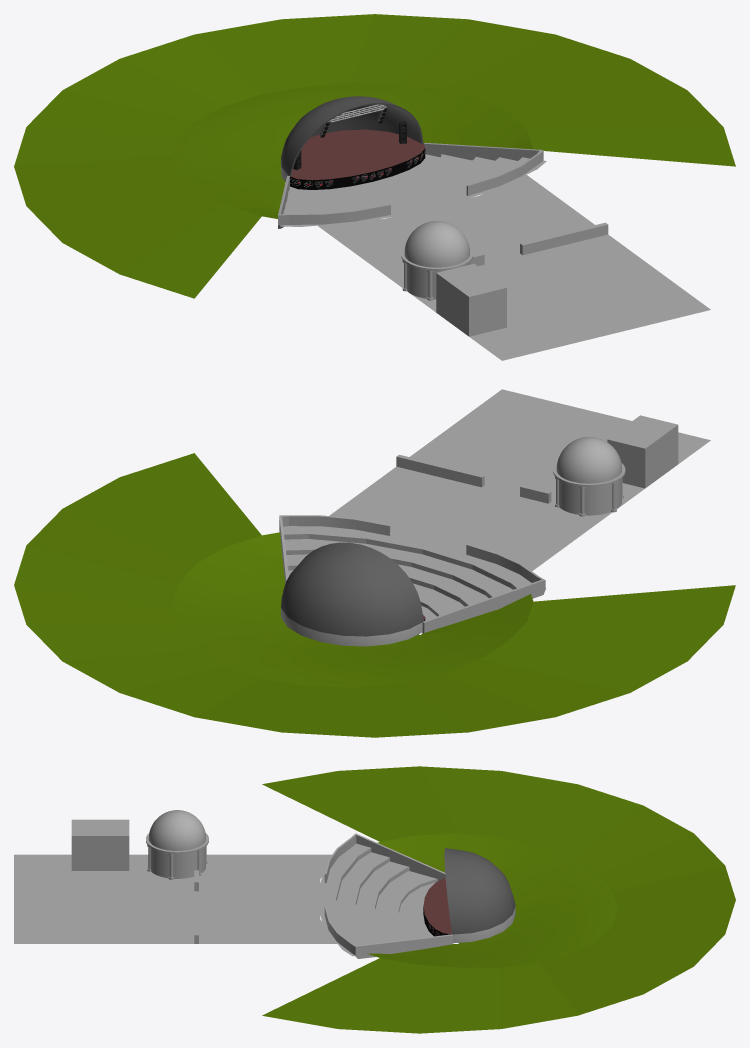
The model's file is MainWorld.fbx.
The picture shows the model from 3 angles, top to bottom: view 1: azimuth 30°, elevation 25°; view 2: azimuth 150°, elevation 25°; view 3: azimuth 270°, elevation 25°; orthographic projection. The views are drawn at different scales.
Visible parts, largest first — view 1: pDisc1, pPlane1, pCylinder29, pCylinder30, pCube1, pCube7, pCylinder27, pCube2; view 2: pDisc1, pPlane1, pCylinder29, pCylinder30, pCylinder27, pCube7, pCube1, pCube2; view 3: pDisc1, pPlane1, pCylinder30, pCylinder29, pCylinder27, pCube1, pCube7.
Part boxes in pixels (x1,y1,x2,y2): pDisc1: [14, 14, 735, 298]; pPlane1: [317, 174, 710, 360]; pCylinder29: [281, 96, 425, 189]; pCylinder30: [280, 154, 546, 226]; pCube1: [436, 263, 506, 336]; pCube7: [278, 142, 543, 228]; pCylinder27: [401, 221, 473, 299]; pCube2: [520, 222, 608, 255]; pDisc1: [14, 453, 735, 737]; pPlane1: [329, 389, 710, 570]; pCylinder29: [281, 542, 425, 646]; pCylinder30: [283, 526, 546, 620]; pCylinder27: [553, 437, 625, 515]; pCube7: [279, 515, 545, 633]; pCube1: [607, 415, 678, 488]; pCube2: [396, 454, 484, 487]; pDisc1: [262, 766, 735, 1033]; pPlane1: [14, 854, 338, 943]; pCylinder30: [318, 843, 437, 956]; pCylinder29: [423, 848, 515, 943]; pCylinder27: [146, 810, 208, 878]; pCube1: [71, 819, 129, 870]; pCube7: [324, 833, 452, 958].
Size of the model in its own units: 65.76 by 8.42 by 75.08.
